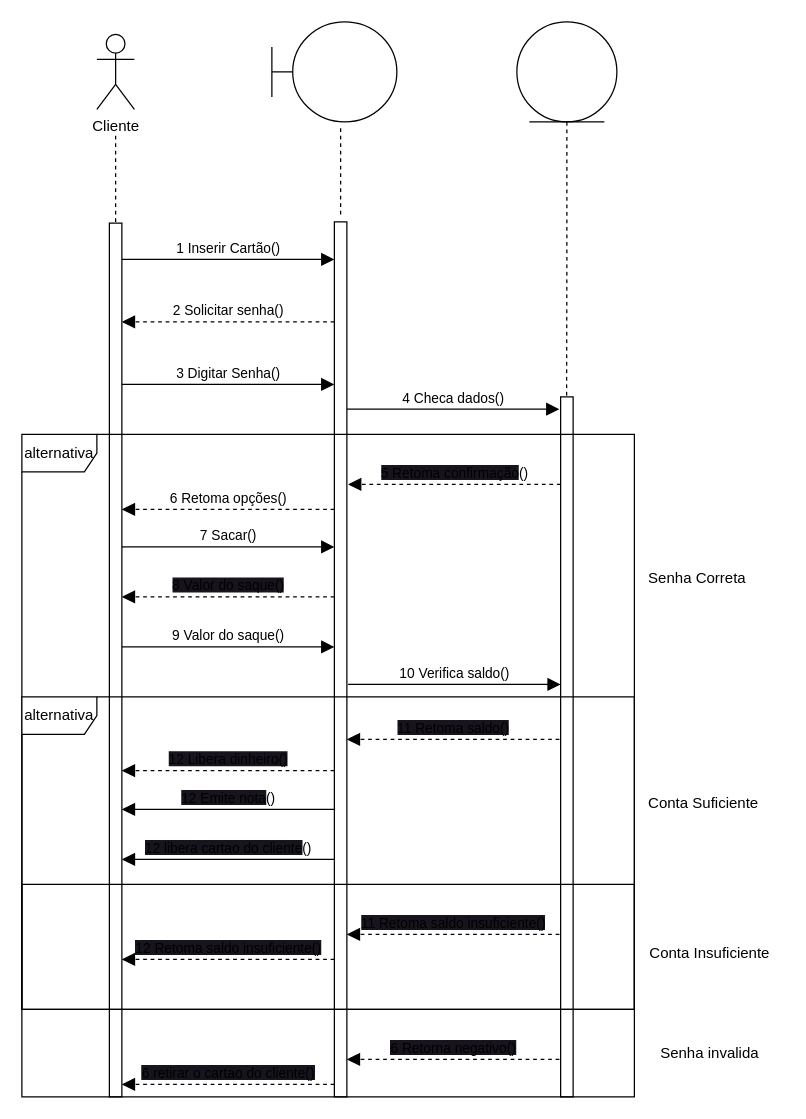
Some shapes in this 806 by 1119 pixel diagram are drawn without their labels. Here are the shapes that lost their labels. From the top down, the box of each, then its label:
(271, 21, 397, 122): Caixa Eletronico
(516, 21, 617, 122): Banco
